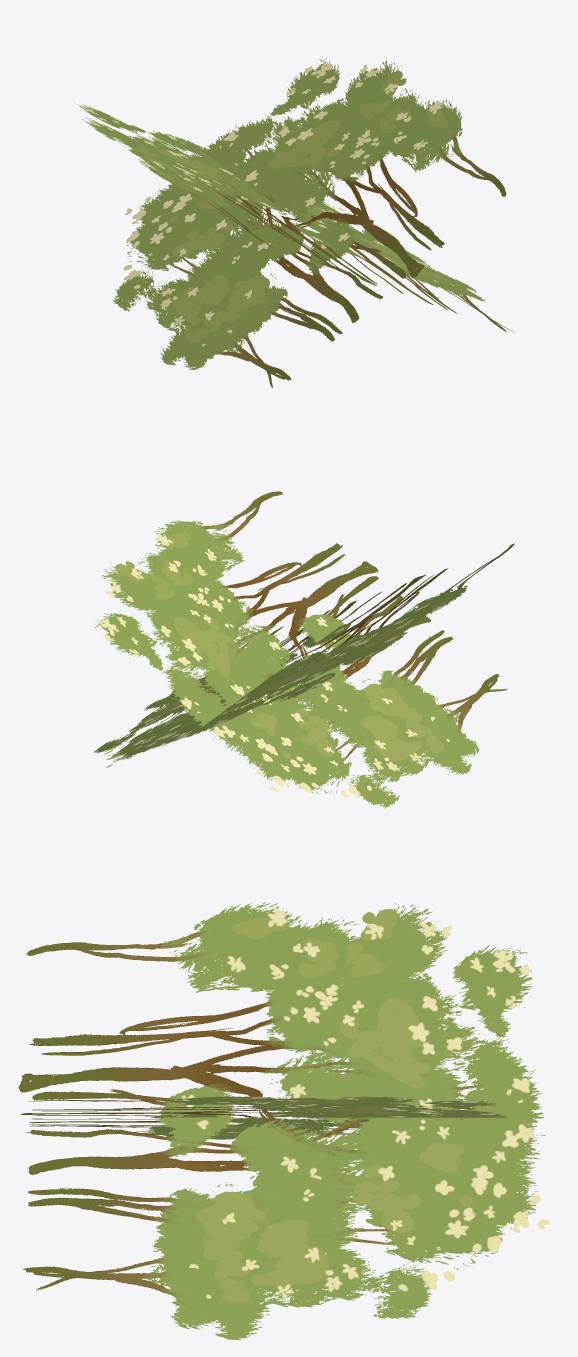
The model's file is struik plane xrotat.fbx.
3 renders of one model, top to bottom at view 1: azimuth 30°, elevation 25°; view 2: azimuth 150°, elevation 25°; view 3: azimuth 270°, elevation 25°, orthographic. The views are drawn at different scales.
Parts seen in each view (by area): view 1: flower shrub; view 2: flower shrub; view 3: flower shrub.
Part boxes in pixels (left/top/right/bottom): flower shrub: left=74, top=58, right=514, bottom=387; flower shrub: left=93, top=491, right=514, bottom=808; flower shrub: left=18, top=902, right=549, bottom=1339.
Bounding box in the file's own units: 173 × 100 × 200.
